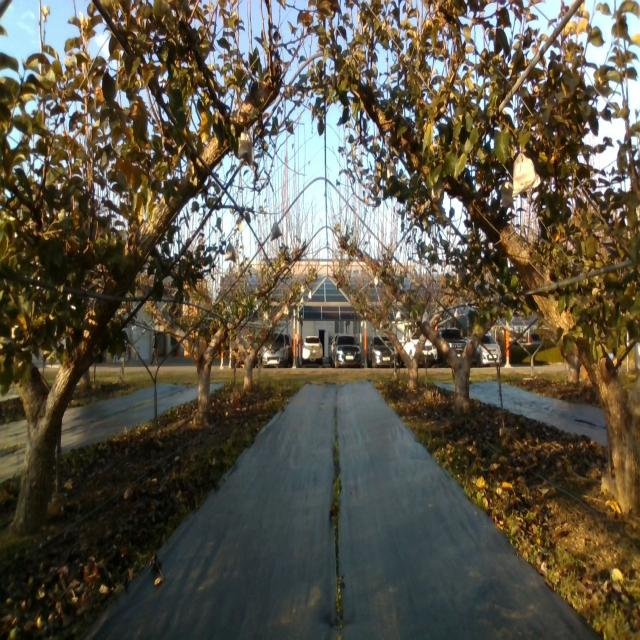pearbags: (512, 149, 540, 199), (238, 129, 254, 166), (501, 180, 515, 210), (225, 239, 236, 263), (270, 221, 282, 242)
